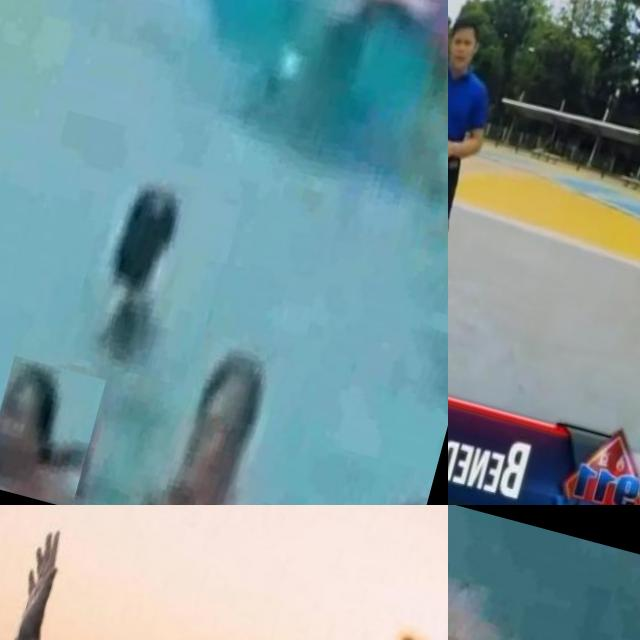drowning: (0, 537, 448, 640), (62, 165, 238, 388), (448, 552, 539, 640)
out of water: (448, 0, 519, 360)
swimming: (158, 359, 279, 505), (0, 355, 105, 505), (294, 0, 448, 98)
